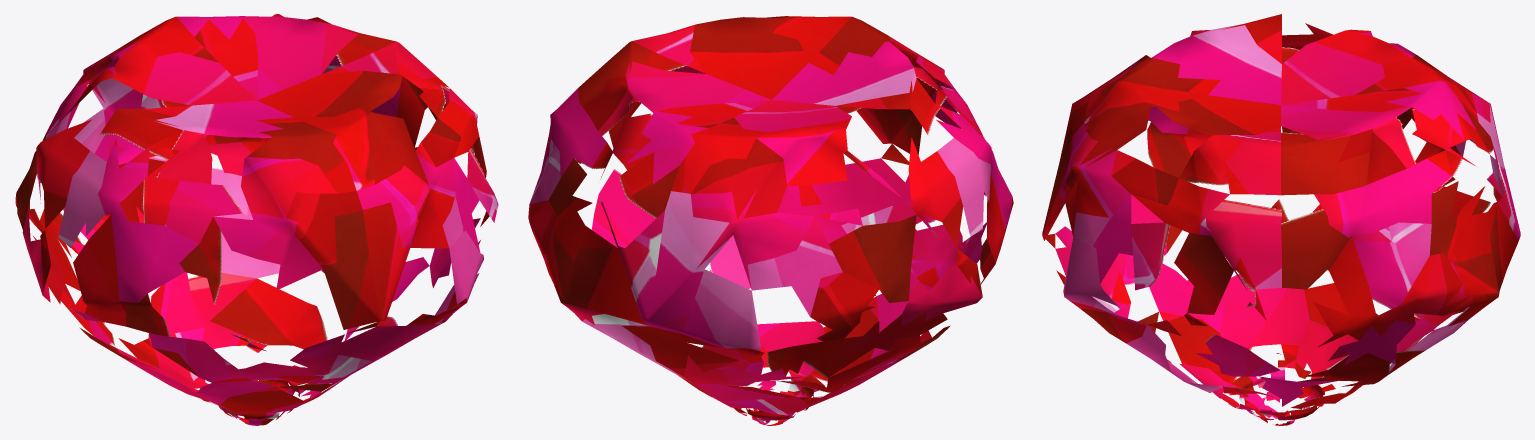
Rendered from ruby_gem_single_3500tris.fbx.
3 views of the same model, side by side, from view 1: azimuth 30°, elevation 25°; view 2: azimuth 150°, elevation 25°; view 3: azimuth 270°, elevation 25° (orthographic).
Parts seen in each view (by area): view 1: ruby_gem_single_decimated; view 2: ruby_gem_single_decimated; view 3: ruby_gem_single_decimated.
Part boxes in pixels (box(x1,y1,x2,y2)): ruby_gem_single_decimated: box(15, 14, 498, 425); ruby_gem_single_decimated: box(528, 16, 1013, 425); ruby_gem_single_decimated: box(1042, 14, 1520, 425).
Bounding box in the file's own units: 1.9 × 1.48 × 1.87.
